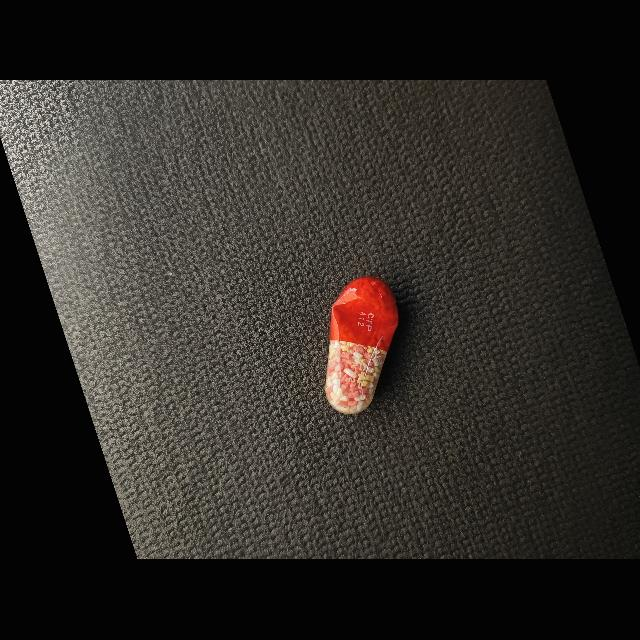Defective Capsule: (325, 277, 399, 415)
